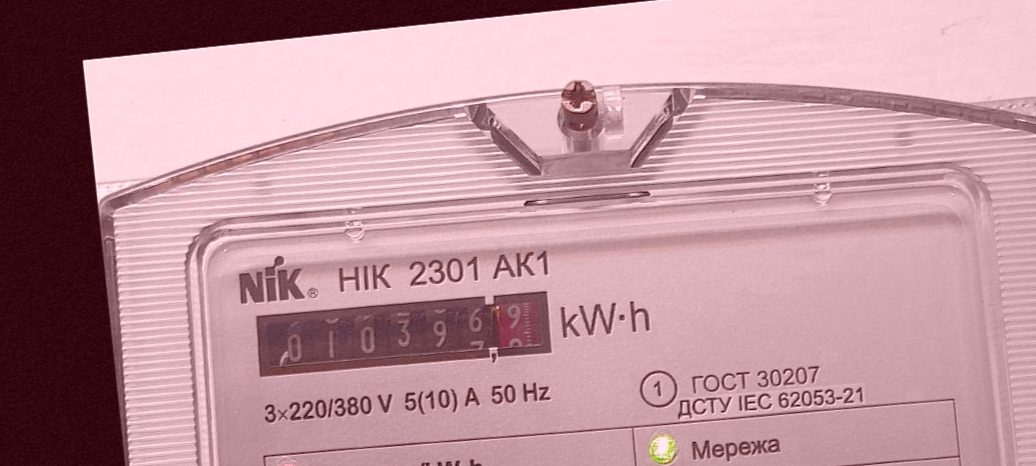0: (356, 322, 382, 357), (284, 330, 307, 364)
1: (324, 326, 341, 360)
3: (395, 316, 416, 351)
6: (465, 304, 489, 335)
9: (429, 316, 452, 351), (503, 301, 527, 333)
screen: (240, 272, 567, 399)
